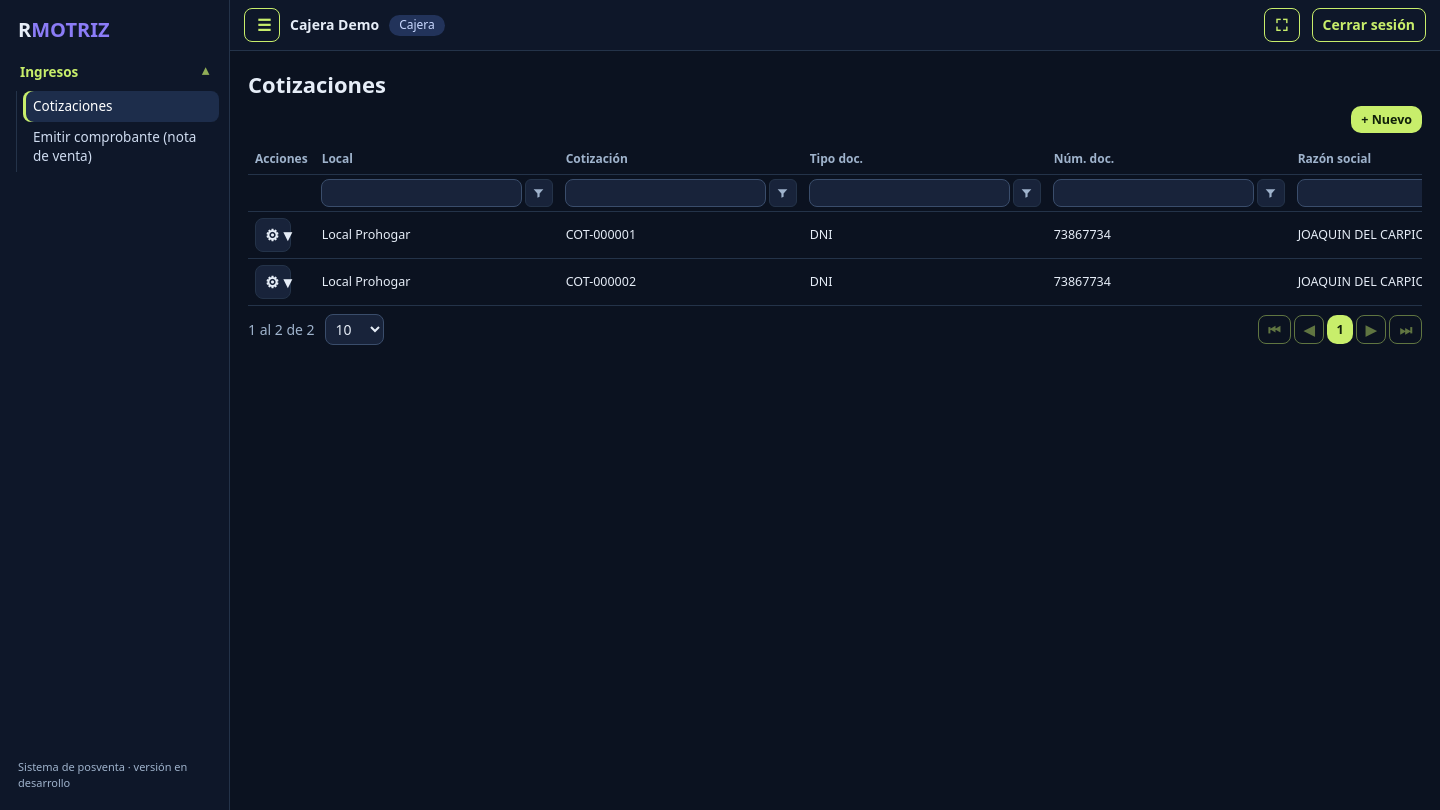
Test: Cotizaciones: «Emitir comprobante» abre «Emitir nuevo comprobante» (sin número de orden) con la cotización cargada
Click the button named "Acciones": (273, 235) [255,218,291,252]
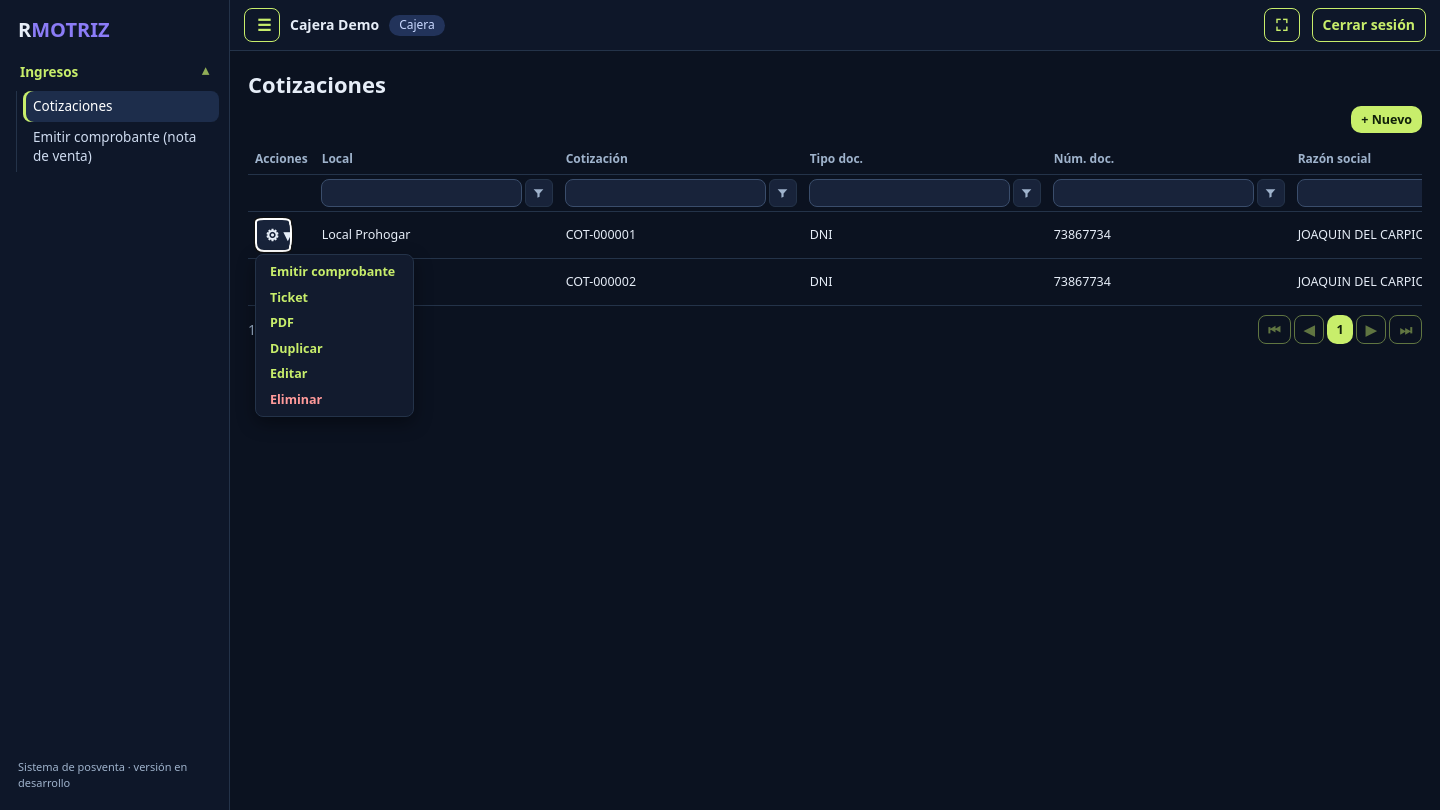
Click the button "Emitir comprobante": (333, 272) [260,259,405,285]
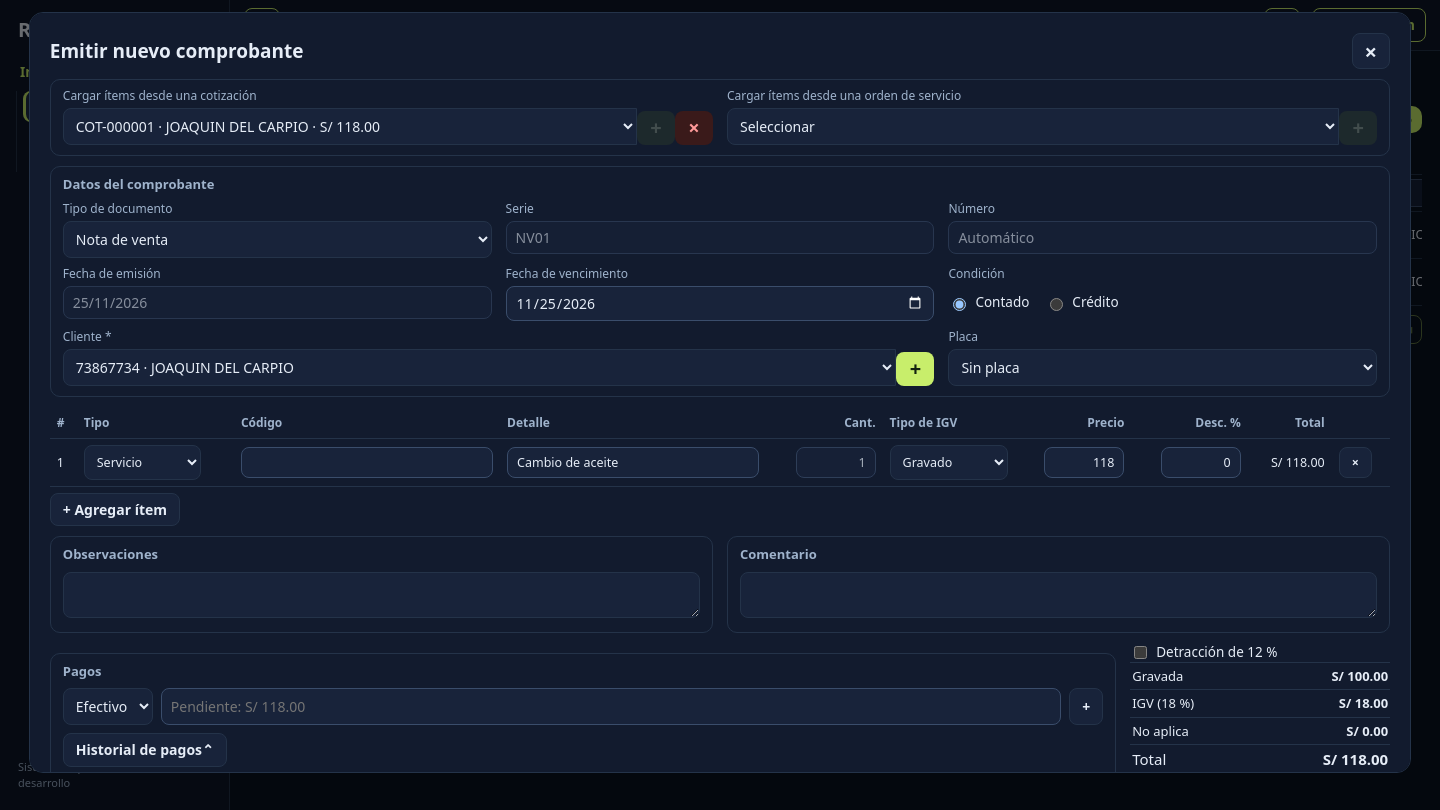
Result: the heading "Emitir nuevo comprobante" is shown at [50,38,304,64]
Result: the dropdown labelled "Cargar ítems desde una cotización" shows "COT-000001 · JOAQUIN DEL CARPIO · S/ 118.00" at [63,108,637,145]
Result: the field named "Detalle del ítem 1" holds "Cambio de aceite" at [507,446,759,478]
